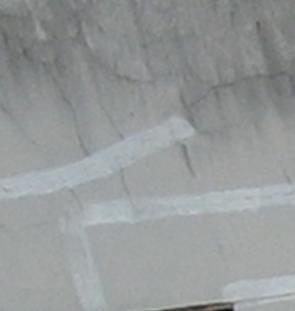fissura: (28, 5, 295, 216)
